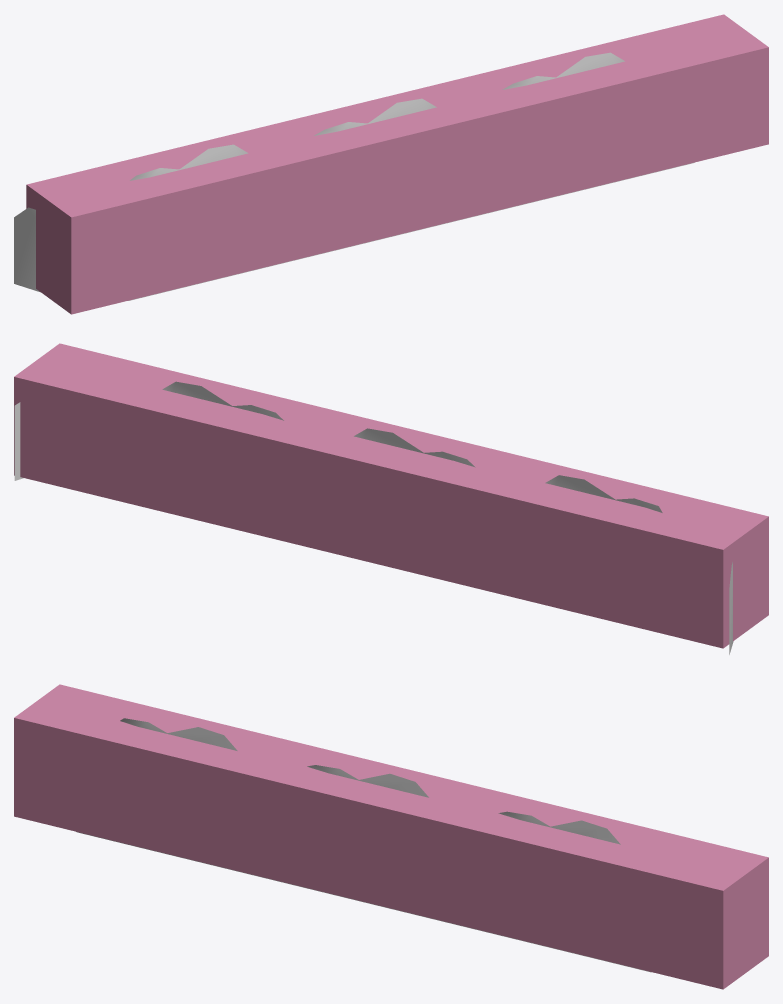
Rendered from renderedblocker_long_a.dae.
3 views of the same model, one above another, from view 1: azimuth 30°, elevation 25°; view 2: azimuth 150°, elevation 25°; view 3: azimuth 330°, elevation 25° (orthographic).
Visible parts, largest first — view 1: Untitled, tree_oak_bush_a320; view 2: Untitled, tree_oak_bush_a320; view 3: Untitled, tree_oak_bush_a320.
Part boxes in pixels (x1,y1,x2,y2): Untitled: (26, 14, 768, 314); tree_oak_bush_a320: (14, 52, 694, 300); Untitled: (14, 343, 768, 648); tree_oak_bush_a320: (14, 381, 733, 654); Untitled: (14, 684, 768, 989); tree_oak_bush_a320: (76, 718, 651, 972).
Bounding box in the file's own units: 75.04 × 8.85 × 12.18.
